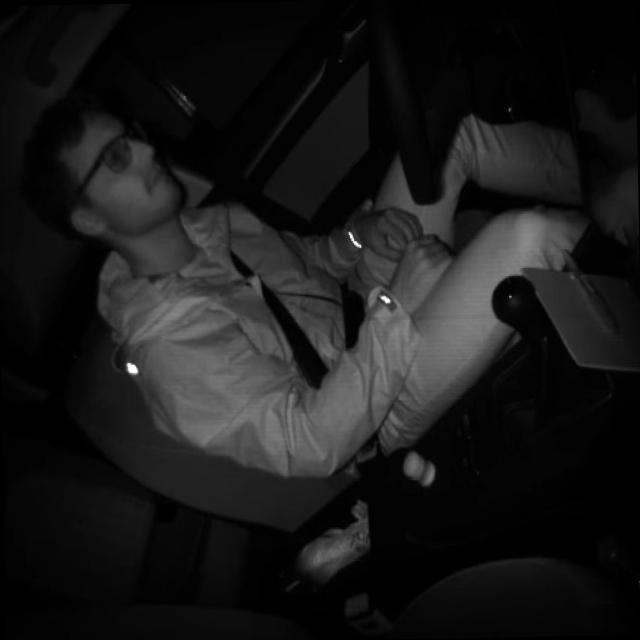pen: (560, 244, 616, 334)
